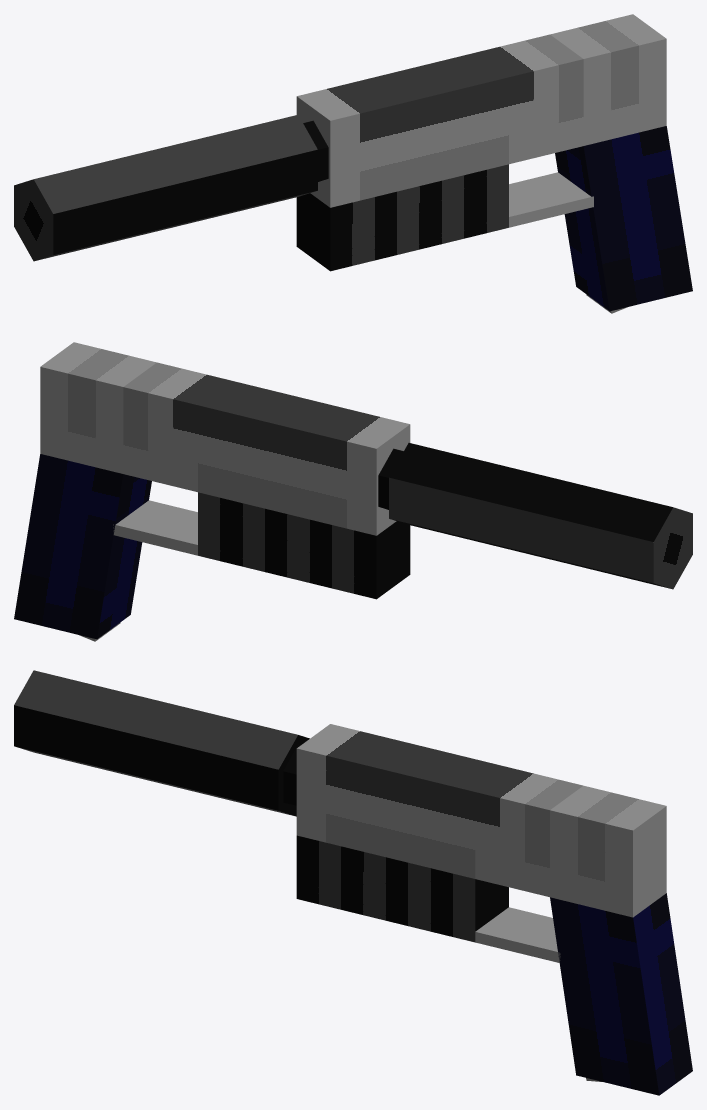
File: pistol 12.fbx
3 renders of one model, top to bottom at view 1: azimuth 30°, elevation 25°; view 2: azimuth 150°, elevation 25°; view 3: azimuth 330°, elevation 25°, orthographic.
Visible parts, largest first — view 1: Pistol; view 2: Pistol; view 3: Pistol.
Boxes of the visible parts, <box> form: Pistol: <box>14,14,692,311</box>; Pistol: <box>14,342,692,639</box>; Pistol: <box>14,670,692,1095</box>.
Bounding box in the file's own units: 220 × 87.12 × 23.35.
